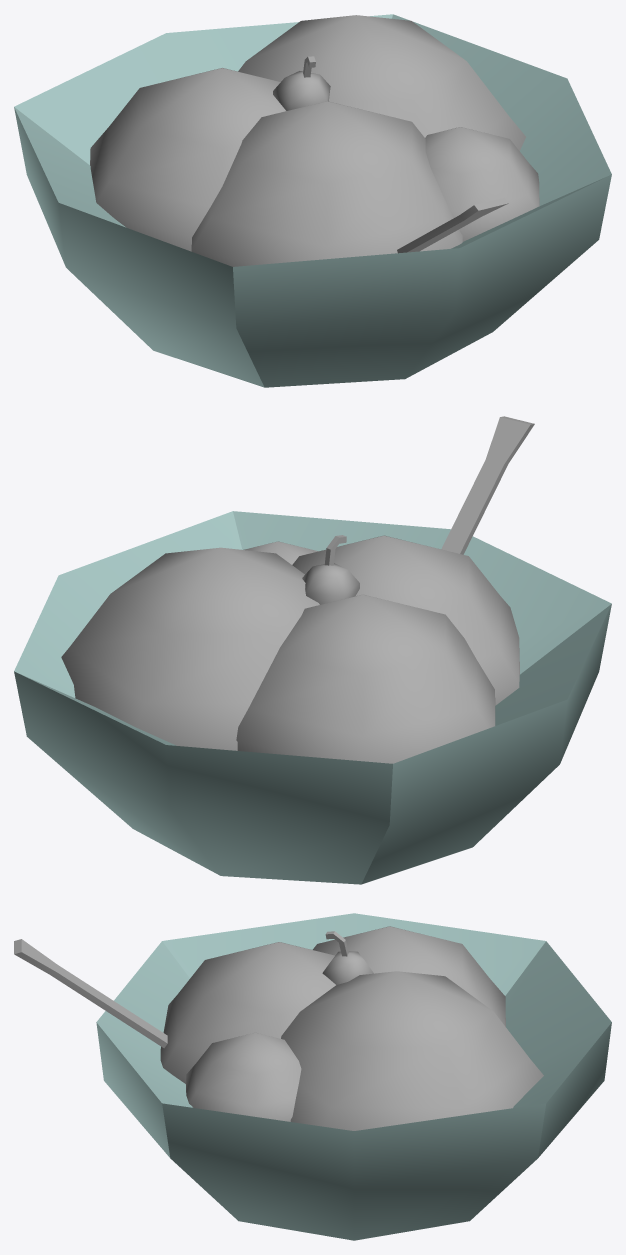
File: IceCream.fbx
3 views of the same model, one above another, from view 1: azimuth 30°, elevation 25°; view 2: azimuth 150°, elevation 25°; view 3: azimuth 270°, elevation 25° (orthographic). The views are drawn at different scales.
Visible parts, largest first — view 1: IceCream; view 2: IceCream; view 3: IceCream.
Boxes of the visible parts, x1=… form: IceCream: x1=14, y1=14, x2=611, y2=387; IceCream: x1=14, y1=416, x2=611, y2=884; IceCream: x1=14, y1=913, x2=611, y2=1240.
Bounding box in the file's own units: 79.6 × 39.89 × 92.32.
